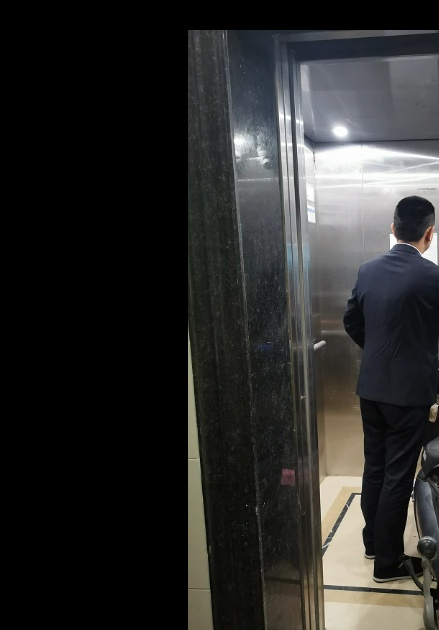person: (350, 192, 436, 581)
